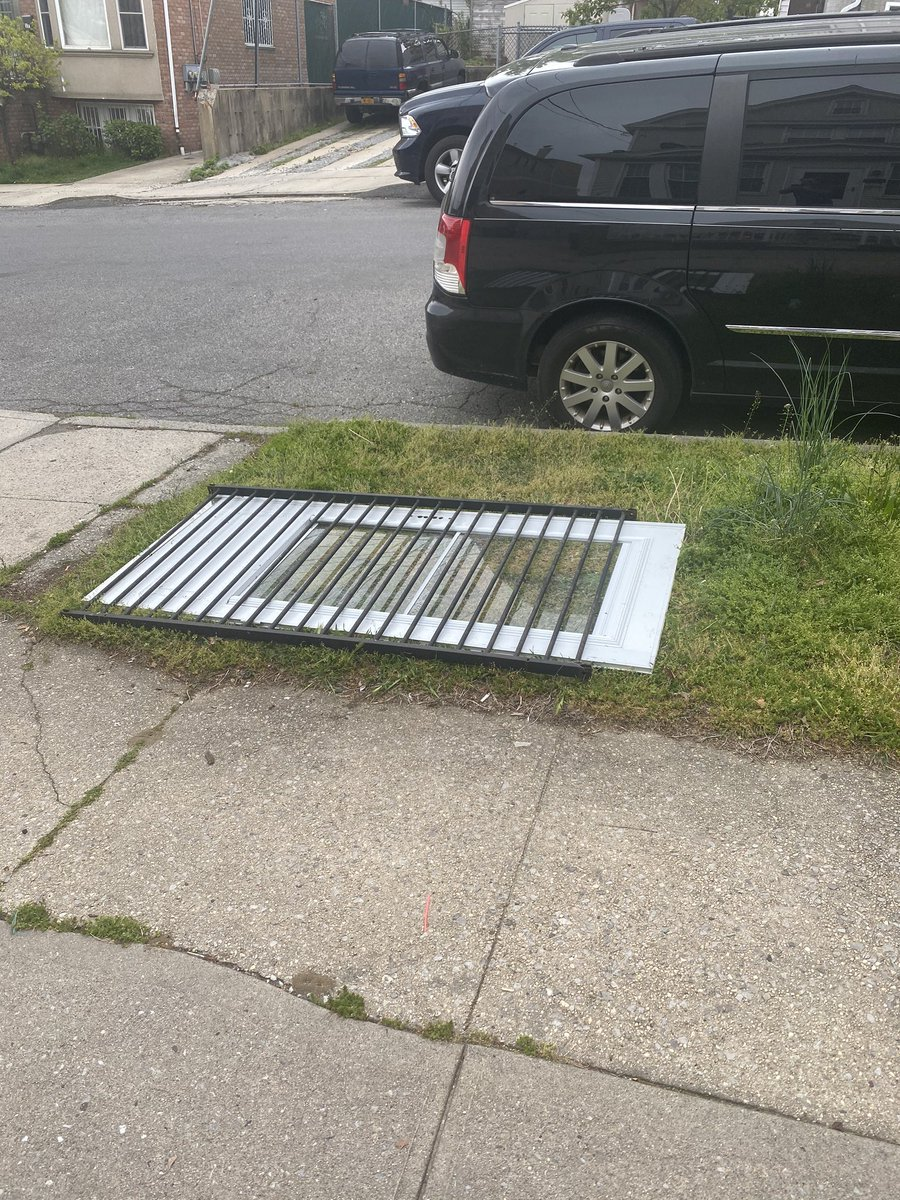car: (445, 20, 900, 436), (323, 20, 466, 129)
grass: (255, 440, 900, 725)
sidewalk: (20, 451, 900, 1200)
street: (20, 179, 471, 436)
